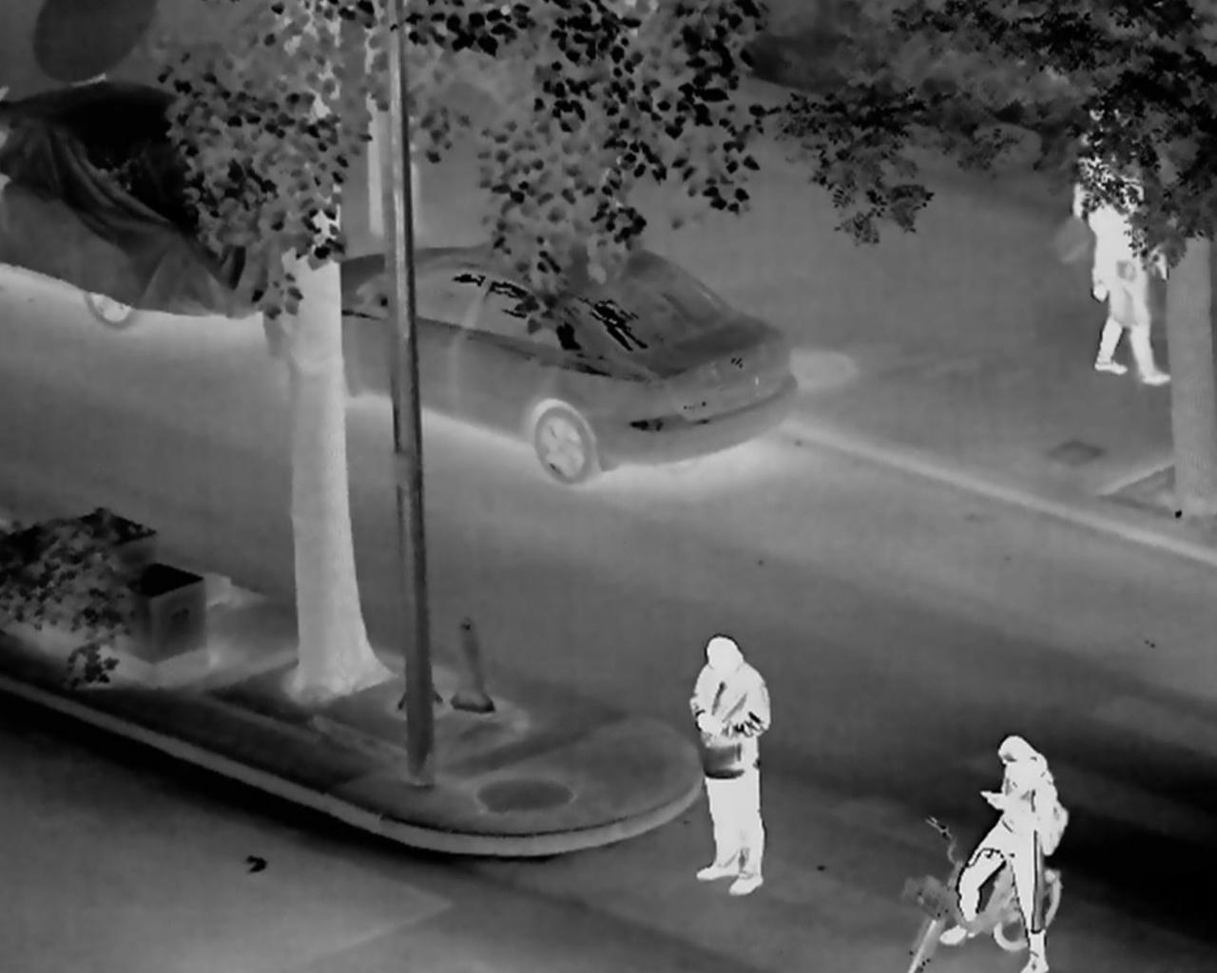person: (937, 736, 1056, 973), (686, 634, 772, 897), (1090, 175, 1175, 390)
